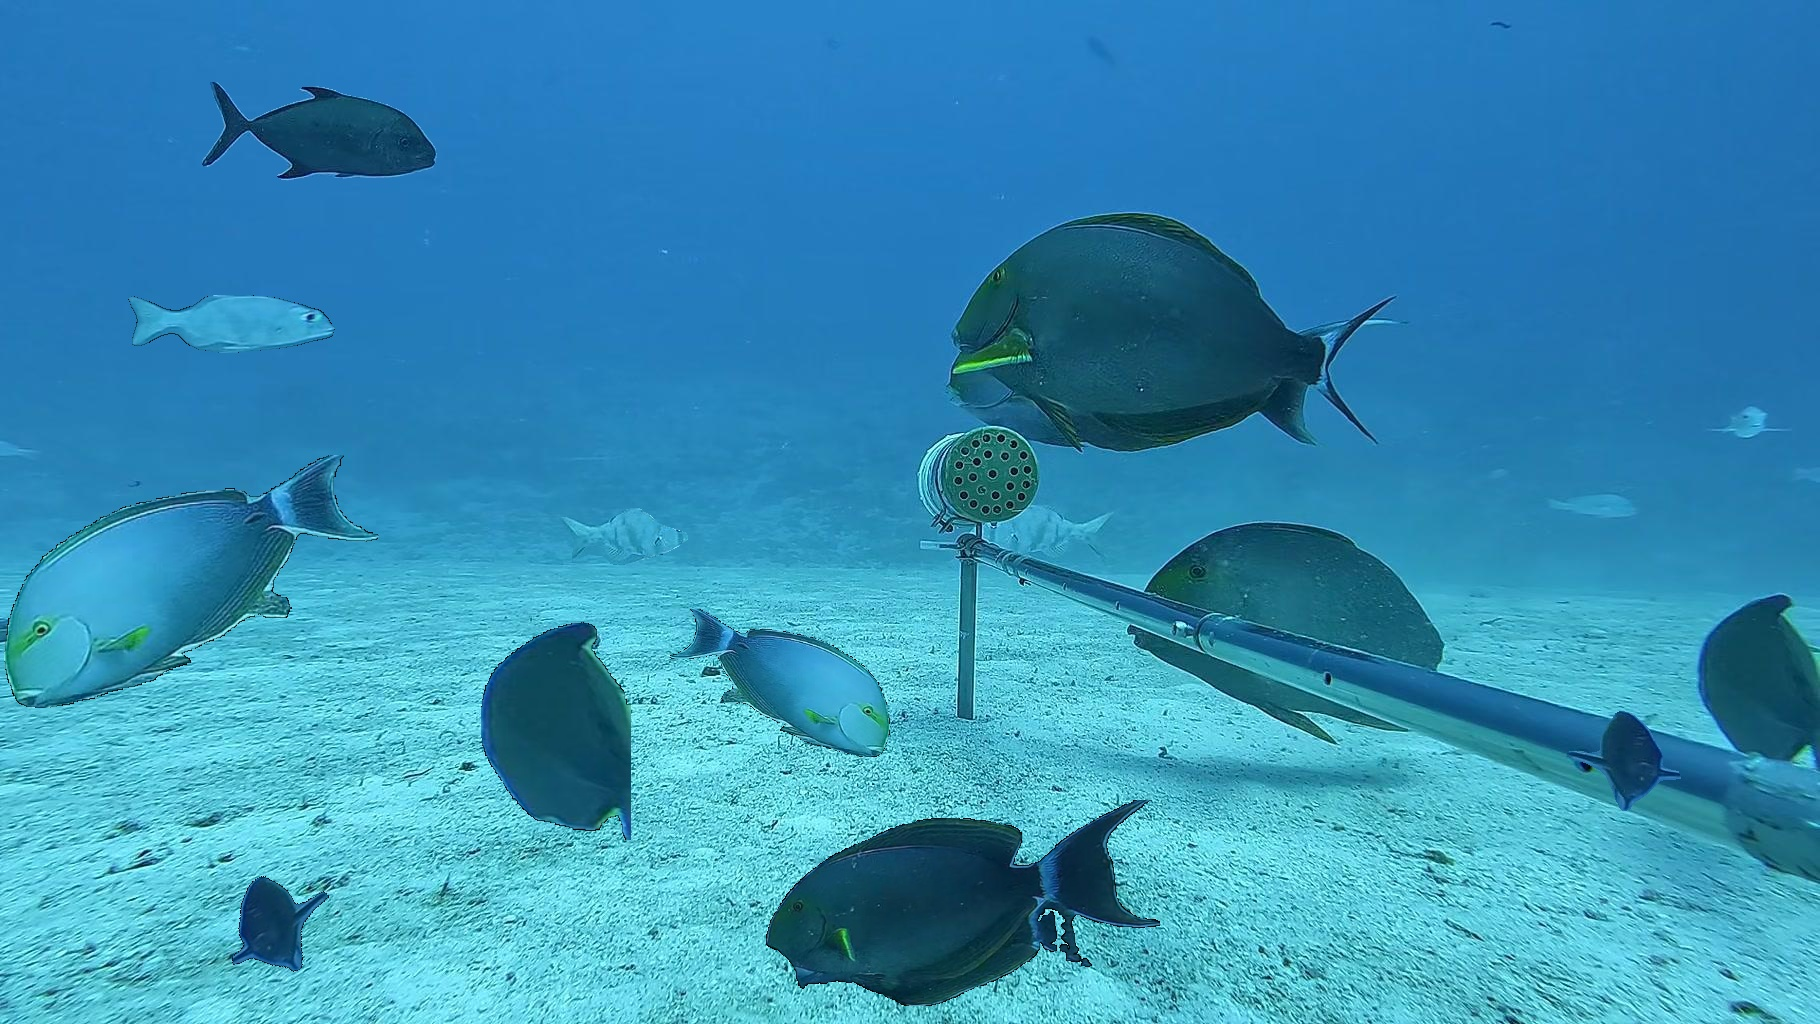fish: (950, 206, 1410, 453), (4, 455, 379, 708), (1124, 524, 1470, 759), (766, 800, 1160, 1006), (1681, 571, 1820, 819), (481, 621, 631, 840), (670, 609, 890, 756), (202, 83, 437, 181), (127, 295, 335, 353), (1566, 711, 1681, 811), (221, 874, 336, 974), (957, 501, 1124, 569), (559, 508, 687, 565), (1697, 390, 1797, 458), (1540, 486, 1642, 530)
